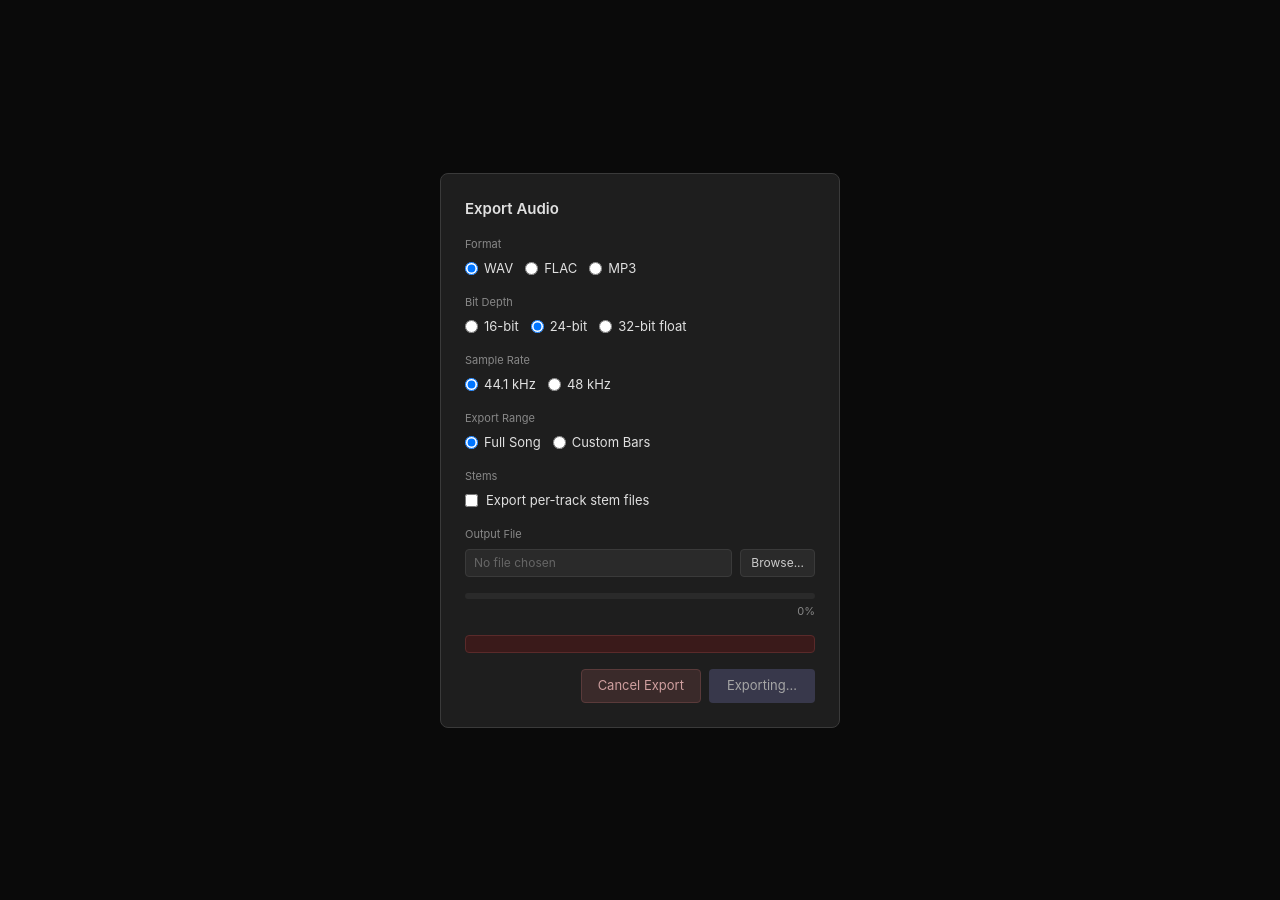
Test: ExportAudioDialog › hides bit depth and shows kbps options when MP3 is selected
Click the radio button labelled "MP3".
click(596, 268)  # box left=589, top=262, right=602, bottom=275
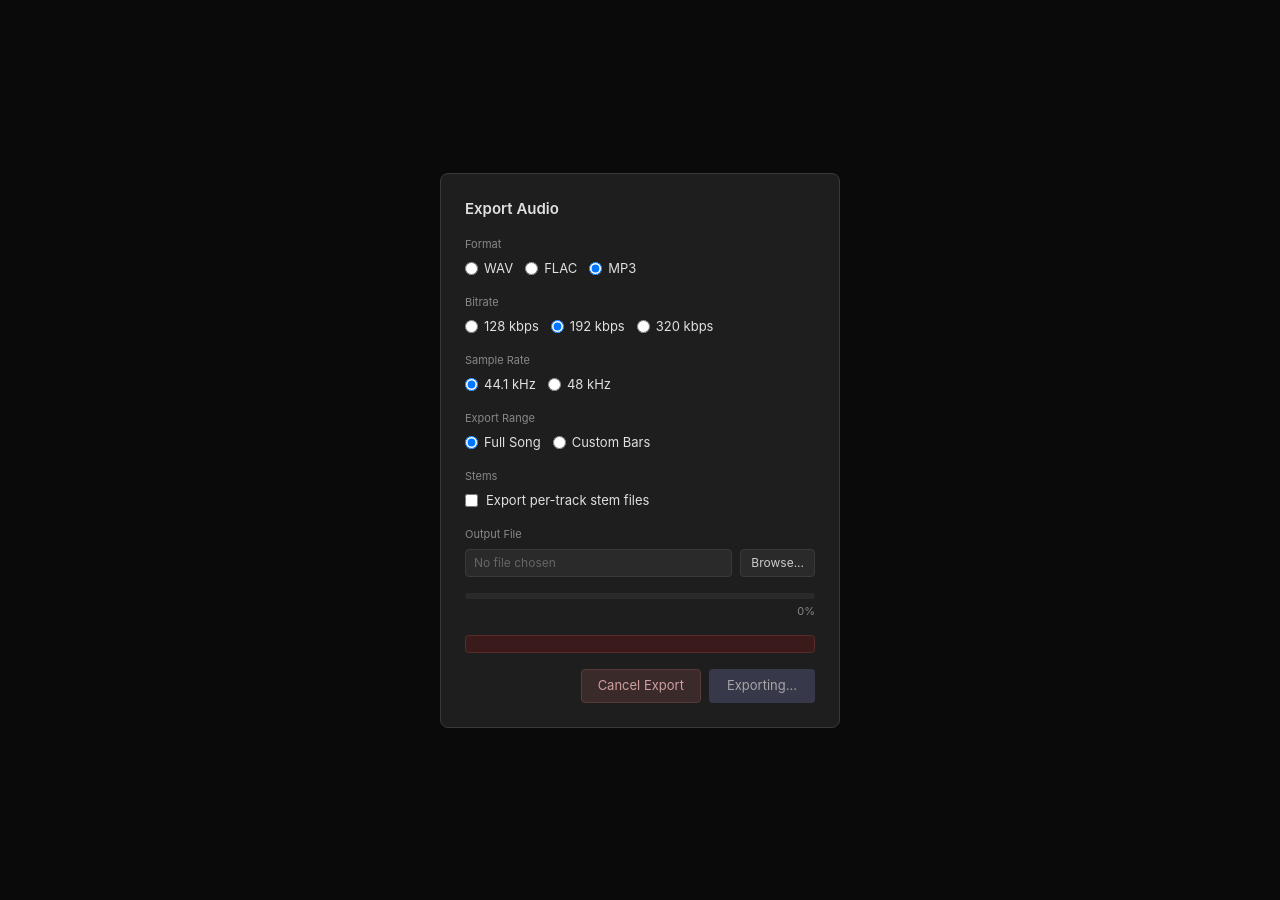
Result: the text "16-bit" is gone
Result: the text "128 kbps" is shown at left=465, top=316, right=539, bottom=336
Result: the text "192 kbps" is shown at left=551, top=316, right=625, bottom=336
